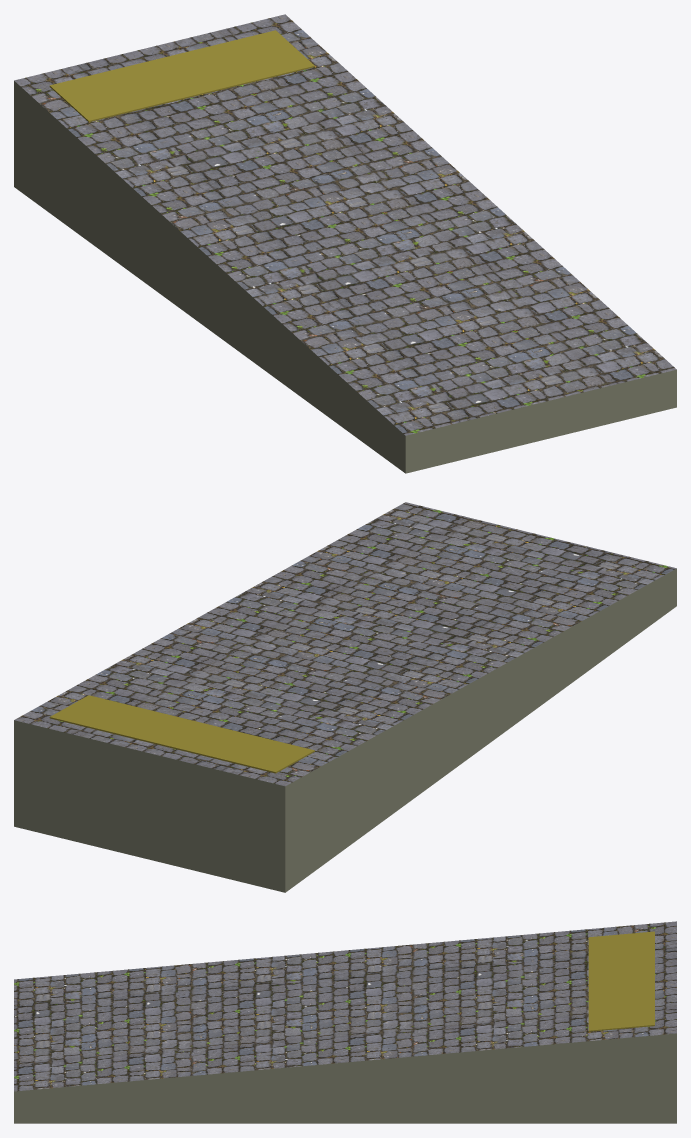
File: lrt_platform_end.fbx
3 views of the same model, one above another, from view 1: azimuth 30°, elevation 25°; view 2: azimuth 150°, elevation 25°; view 3: azimuth 270°, elevation 25° (orthographic). The views are drawn at different scales.
Visible parts, largest first — view 1: lrt_platform_end.005; view 2: lrt_platform_end.005; view 3: lrt_platform_end.005.
Part boxes in pixels (x1=…): lrt_platform_end.005: x1=14, y1=14, x2=676, y2=473; lrt_platform_end.005: x1=14, y1=502, x2=676, y2=892; lrt_platform_end.005: x1=14, y1=921, x2=676, y2=1123.
Bounding box in the file's own units: 1.2 × 0.45 × 3.
